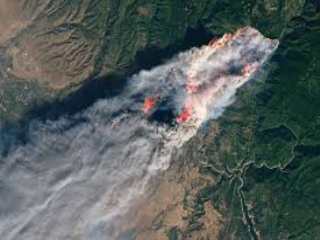fire: (143, 94, 161, 116)
smoke: (91, 25, 281, 153)
